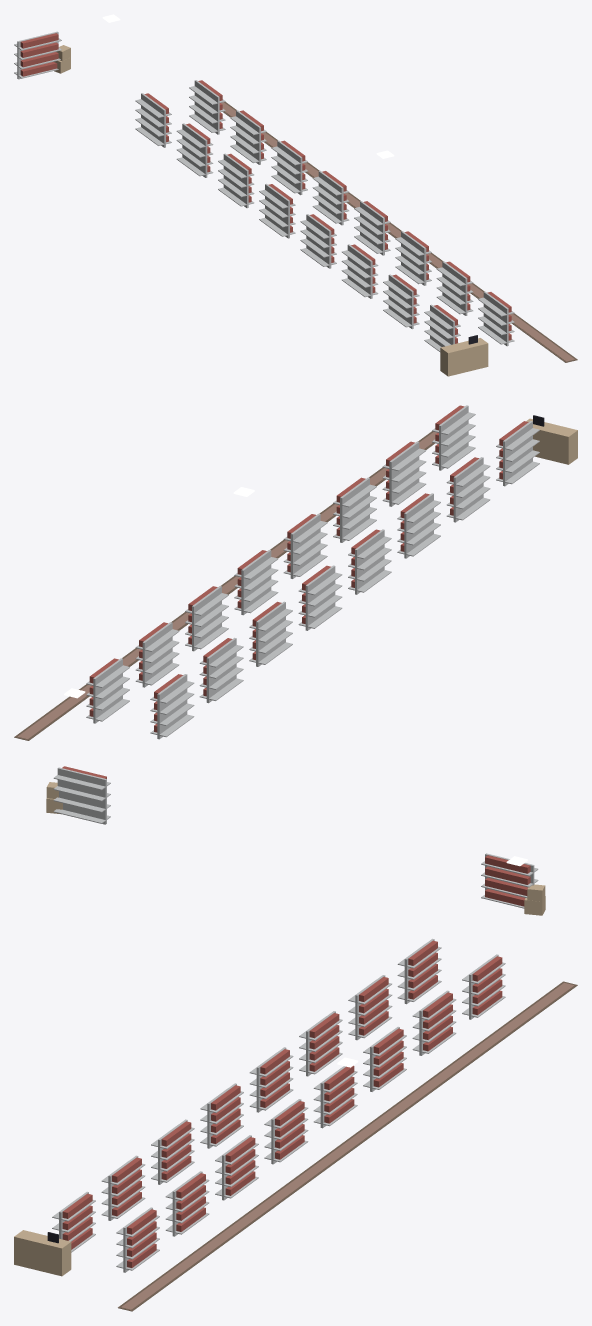
The model's file is fine-s0.glb.
3 views of the same model, one above another, from view 1: azimuth 30°, elevation 25°; view 2: azimuth 150°, elevation 25°; view 3: azimuth 330°, elevation 25° (orthographic). The views are drawn at different scales.
Parts seen in each view (by area): view 1: soft-s0, shelving.000, shop-counter.000, shelf.001, shelf.006, shelf.014, shelf.010, shelf.011, shelf.004, shelf.005, shelf.008, shelf.002 (+7 smaller); view 2: soft-s0, shelving.000, shelf.011, shelf.000, shelf.006, shelf.014, shelf.005, shelf.009, shelf.012, shelf.001, shelf.003, shelf.002 (+7 smaller); view 3: soft-s0, shop-counter.000, shelving.000, shelf.012, shelf.014, shelf.008, shelf.009, shelf.002, shelf.013, shelf.001, shelf.000, shelf.003 (+8 smaller).
Part boxes in pixels (x1,y1,x2,y2): soft-s0: (221, 102, 577, 362); shelving.000: (14, 31, 61, 79); shop-counter.000: (440, 335, 488, 376); shelf.001: (176, 123, 213, 177); shelf.006: (383, 274, 419, 329); shelf.014: (436, 261, 473, 315); shelf.010: (271, 140, 307, 195); shelf.011: (312, 170, 349, 225); shelf.004: (300, 214, 336, 268); shelf.005: (341, 244, 378, 298); shelf.008: (189, 80, 225, 134); shelf.002: (218, 153, 254, 208); soft-s0: (14, 431, 437, 740); shelving.000: (53, 766, 110, 824); shelf.011: (234, 550, 278, 615); shelf.000: (150, 674, 194, 739); shelf.006: (446, 457, 490, 522); shelf.014: (382, 441, 426, 506); shelf.005: (397, 493, 440, 558); shelf.009: (135, 622, 179, 687); shelf.012: (283, 513, 327, 578); shelf.001: (199, 637, 243, 703); shelf.003: (298, 565, 342, 630); shelf.002: (249, 601, 292, 666); soft-s0: (118, 981, 577, 1311); shop-counter.000: (14, 1230, 71, 1276); shelving.000: (481, 853, 538, 908); shelf.012: (264, 1099, 308, 1164); shelf.014: (165, 1171, 209, 1236); shelf.008: (462, 954, 505, 1019); shelf.009: (412, 990, 456, 1055); shelf.002: (299, 1011, 342, 1076); shelf.013: (215, 1135, 258, 1200); shelf.001: (348, 975, 392, 1040); shelf.000: (397, 938, 441, 1004); shelf.003: (249, 1047, 293, 1112).
Size of the model in its own units: 5.92 by 3.03 by 33.46.
